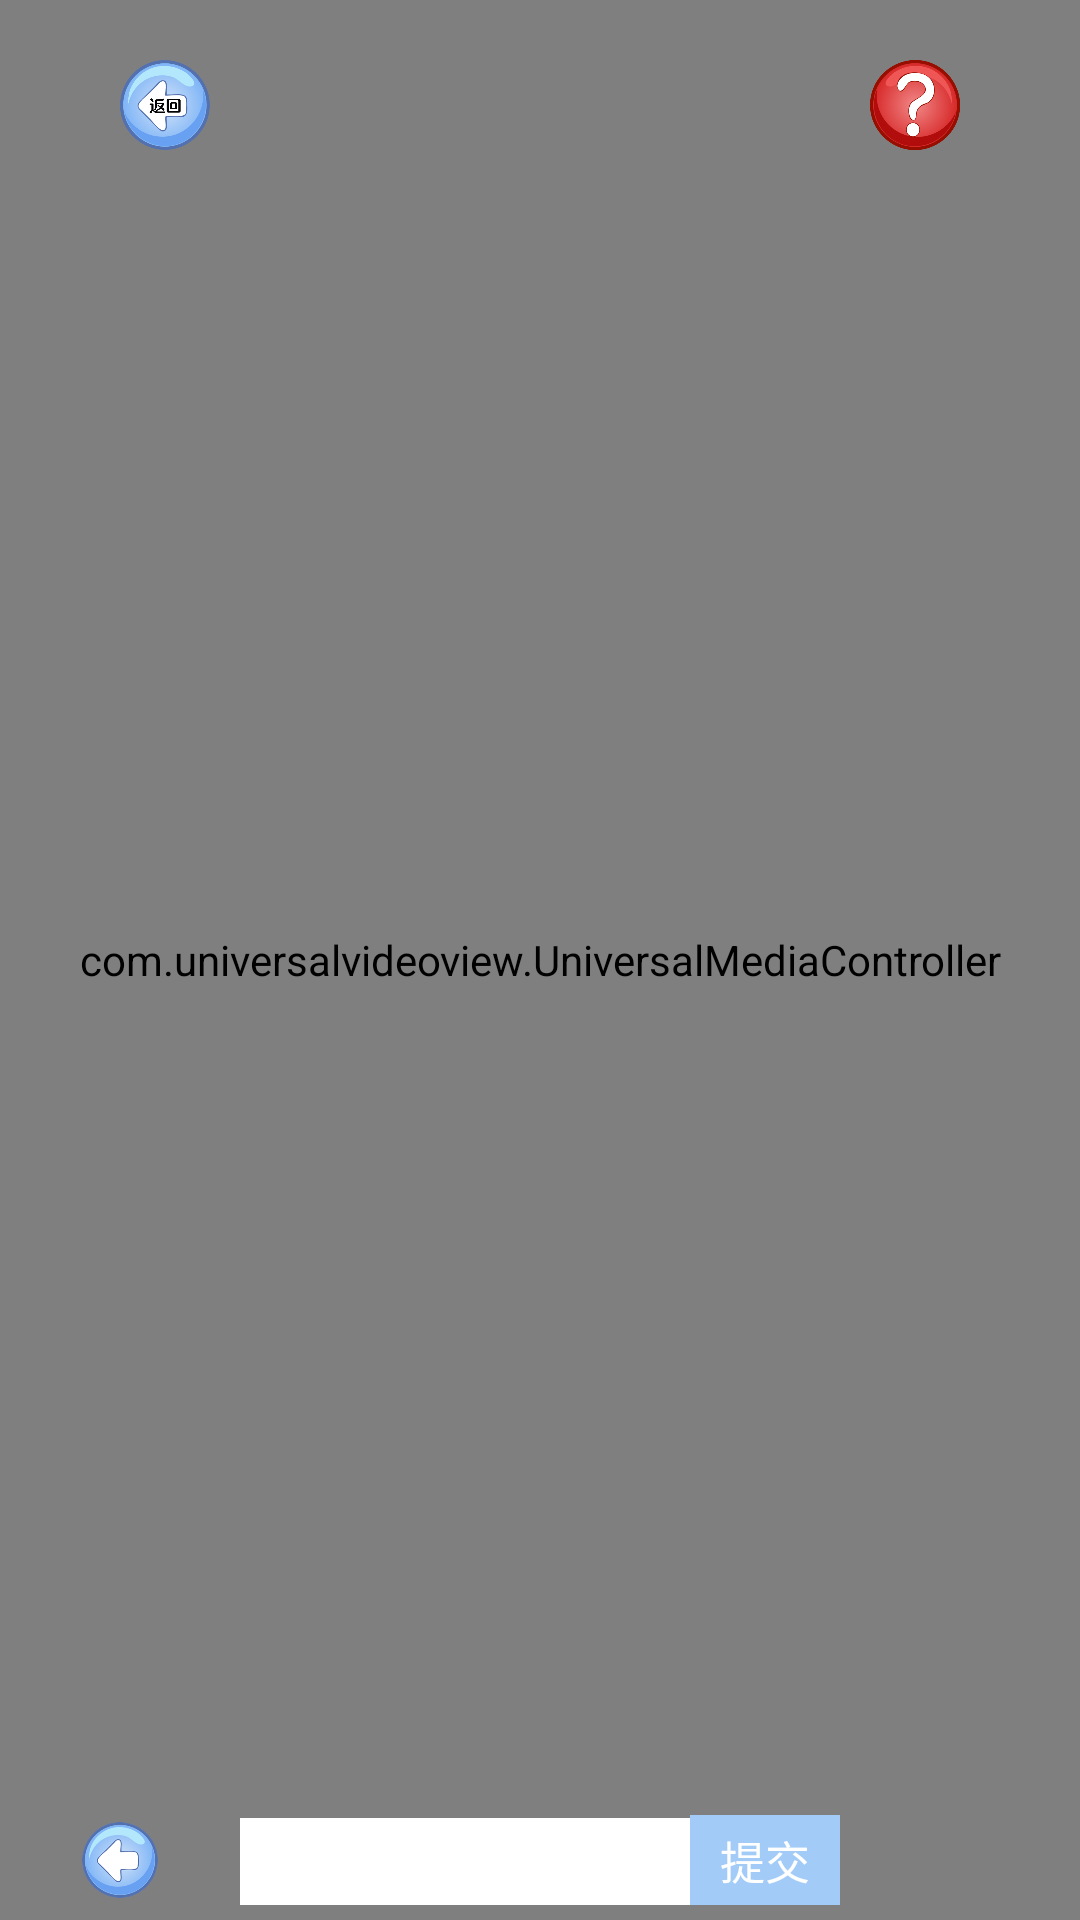

Icons on this 1080 x 1920 Android screen, each with the point to tap as point (x, y):
left: point (120, 1860)
